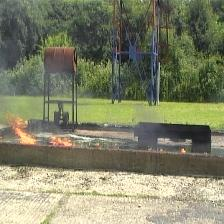fire: (14, 128, 37, 145)
